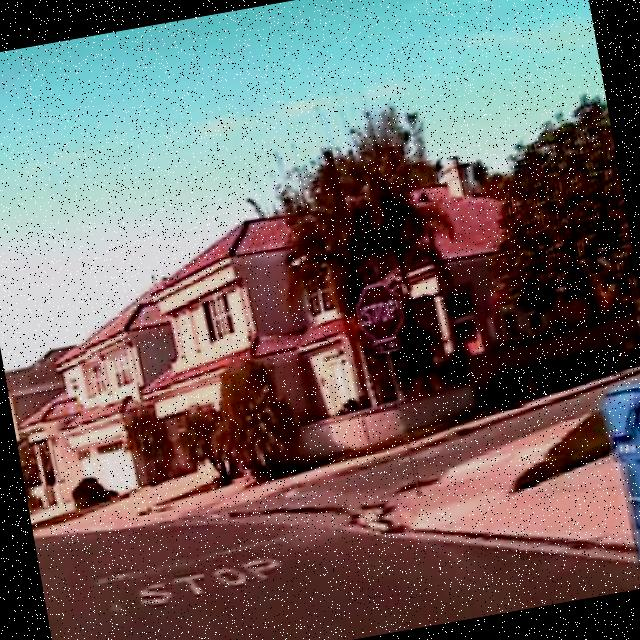Stop: (351, 279, 406, 343)
